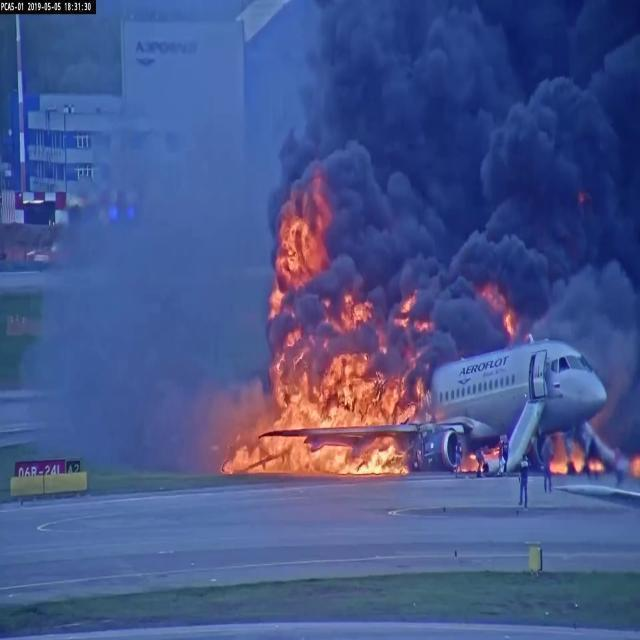Fire: (289, 369, 418, 426), (262, 430, 402, 470)
Smoke: (492, 66, 622, 247), (333, 131, 433, 290), (396, 232, 510, 346)
